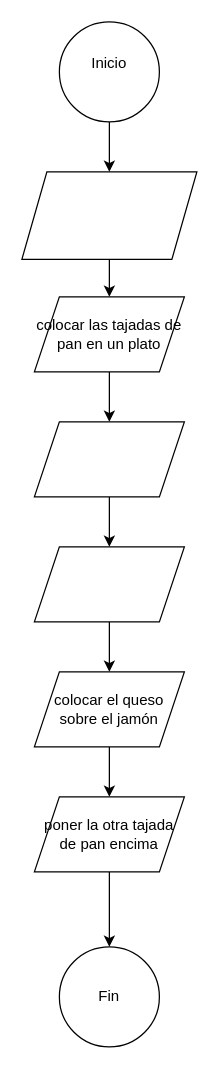
The diagram is 219 pixels wide and 1069 high, and some of its shapes have lost their labels. Each missing label, with the box of its shape:
aplicar salsas al gusto a las tajadas de pan con un cuchillo: (33, 421, 184, 497)
colocar jamón sobre una tajada de pan: (33, 546, 184, 622)
reunir ingredientes como jamón, queso, salsas y utencilios como cuchillo, platos: (21, 171, 197, 259)
